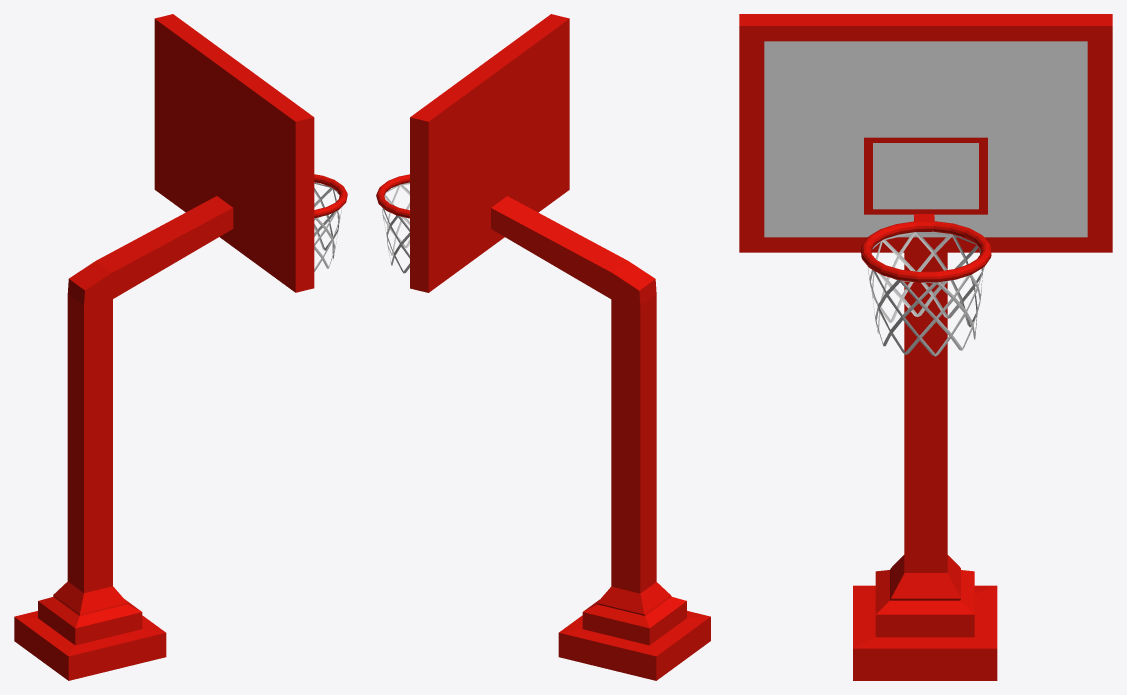
Rendered from hoop.fbx.
The picture shows the model from 3 angles, left to right: view 1: azimuth 30°, elevation 25°; view 2: azimuth 150°, elevation 25°; view 3: azimuth 270°, elevation 25°; orthographic projection. The views are drawn at different scales.
Visible parts, largest first — view 1: hoop; view 2: hoop; view 3: hoop.
Boxes of the visible parts, x1,y1,x2,y2 form: hoop: (14,14,347,680); hoop: (376,14,710,680); hoop: (739,14,1112,680).
Bounding box in the file's own units: 421 × 731 × 343.
